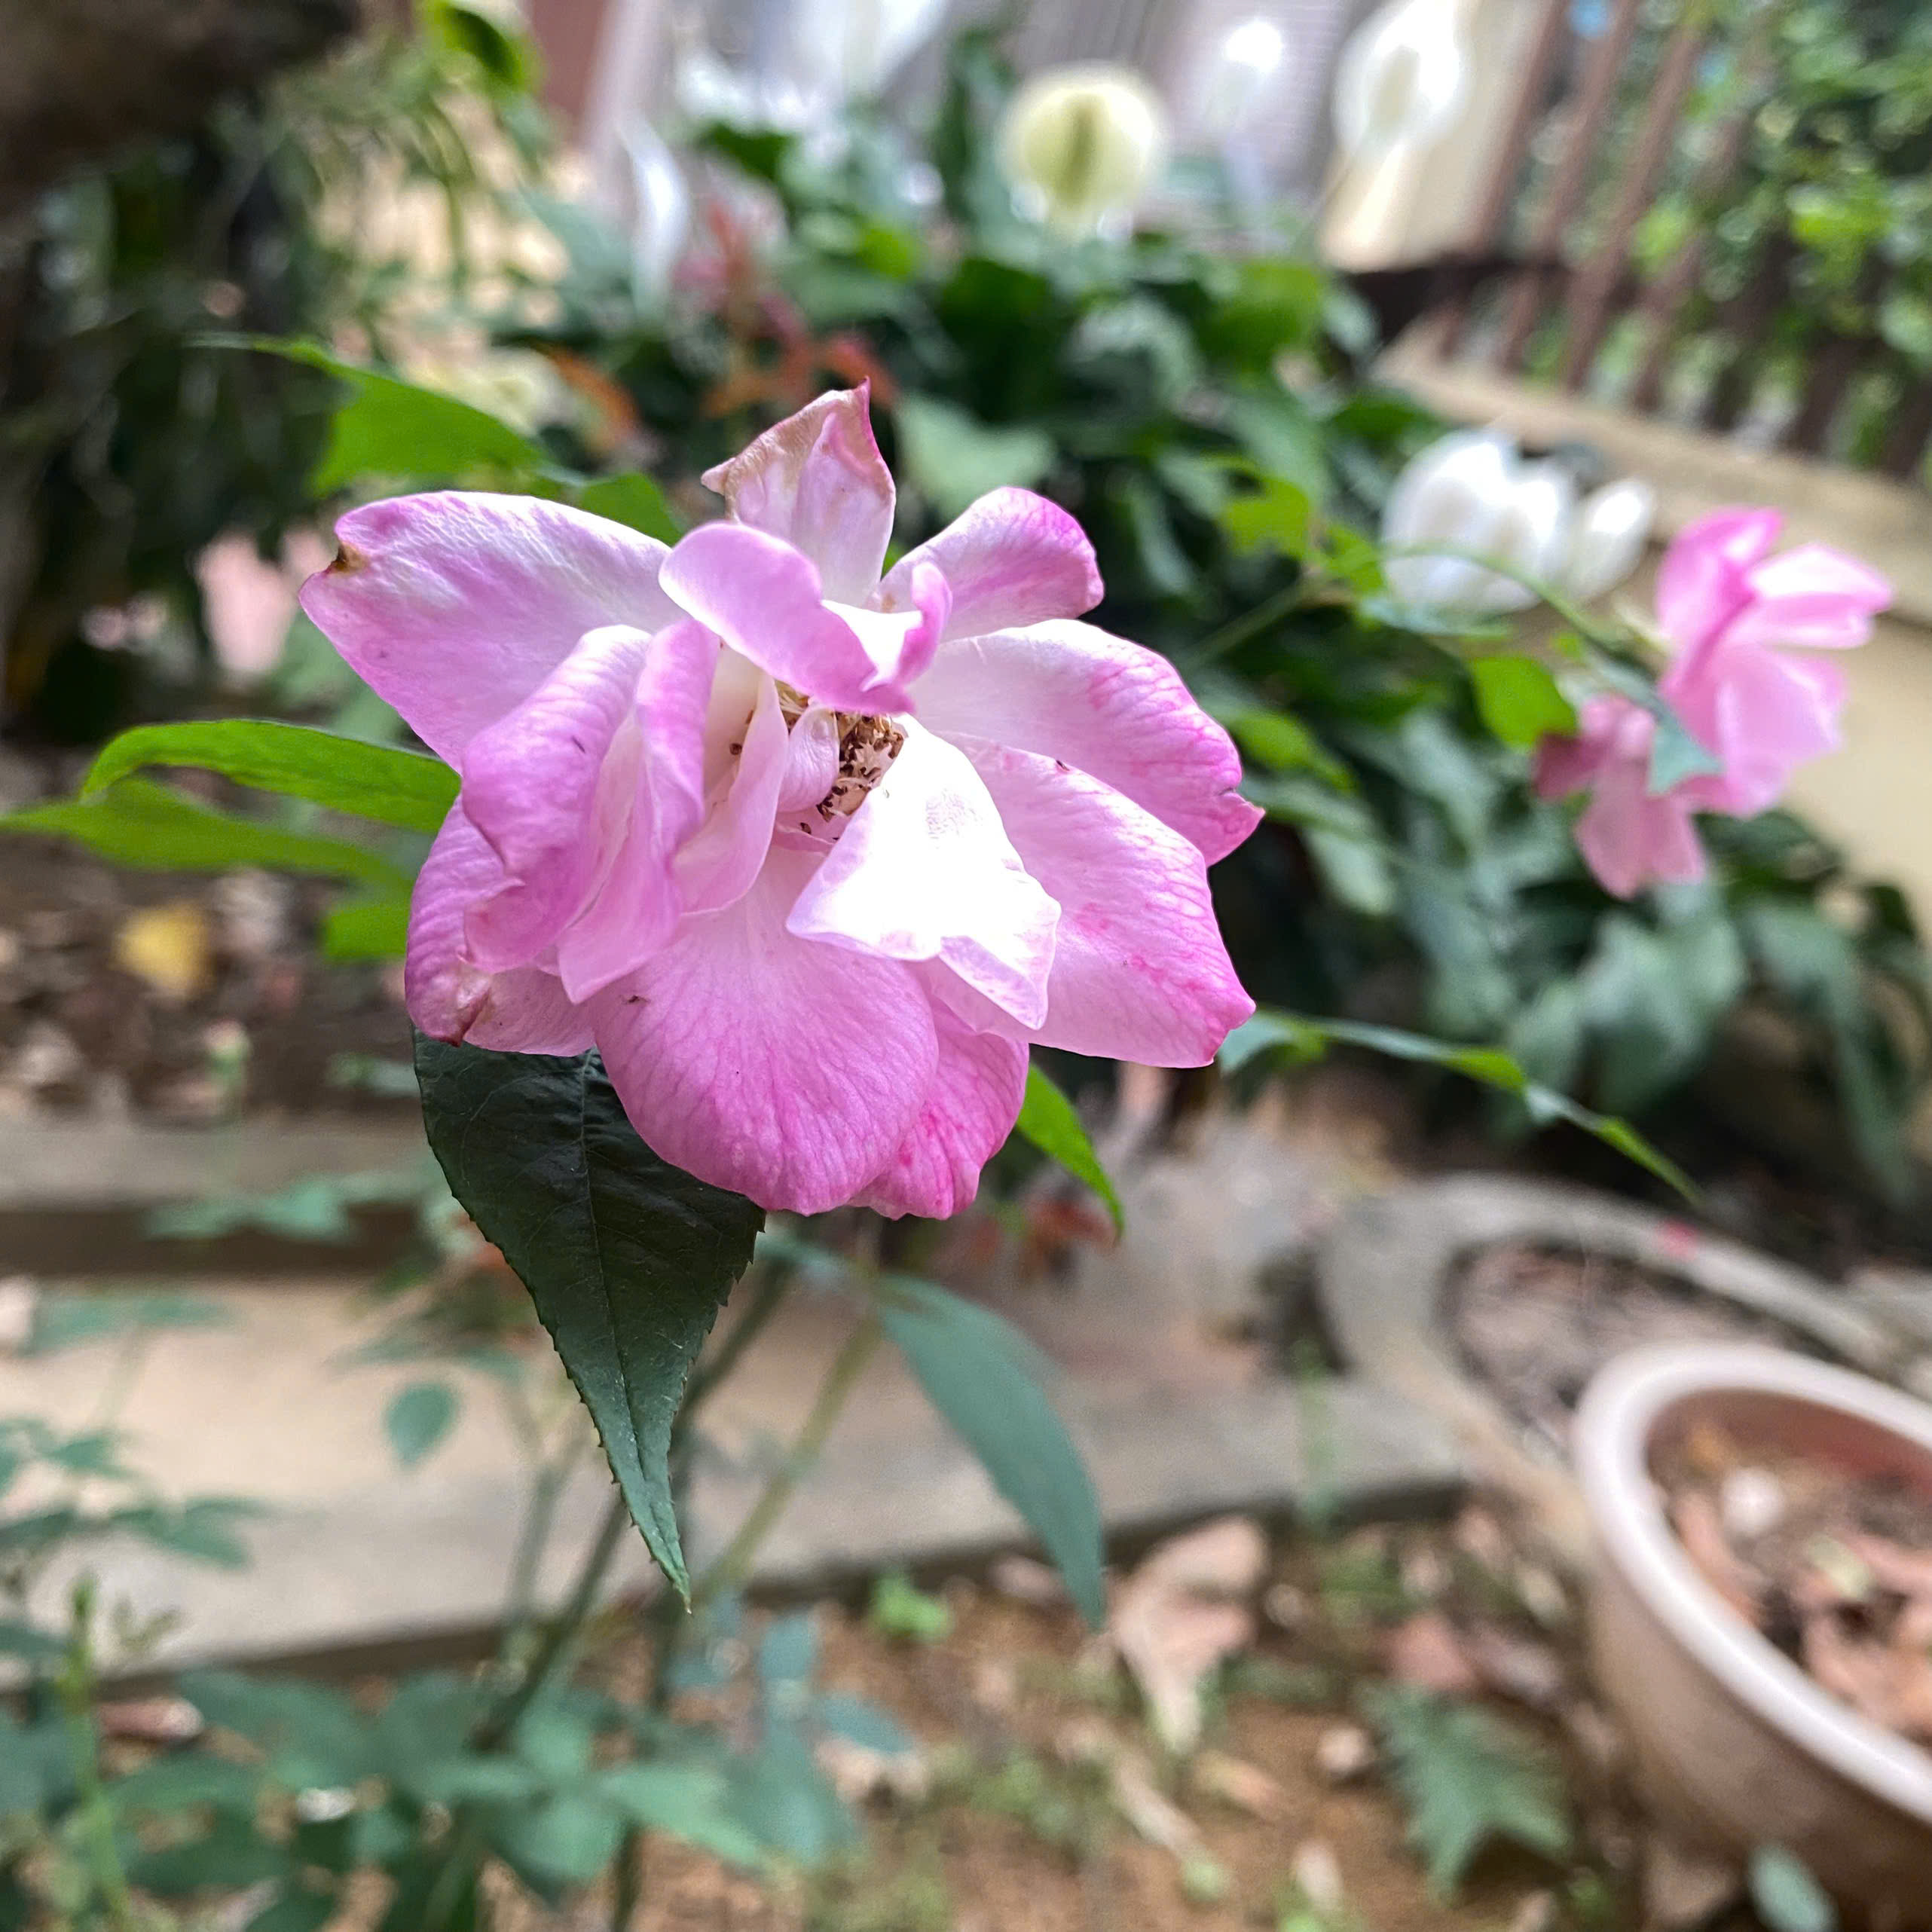hoa_hong_phan: (131, 403, 1277, 1647)
